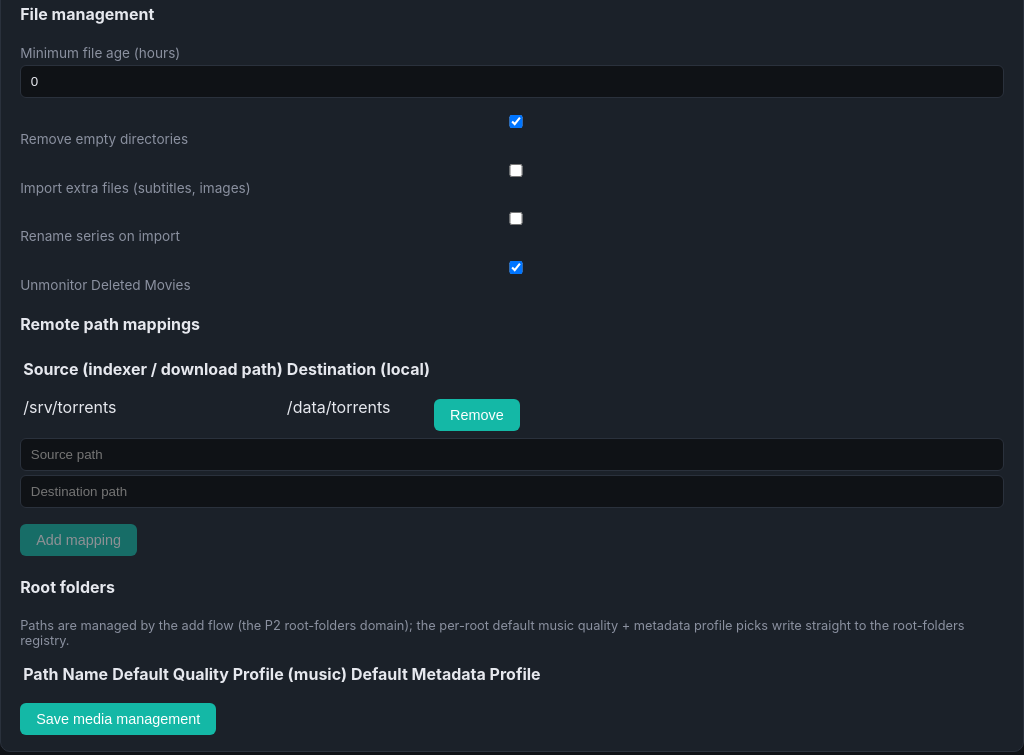
MediaManagementSection › adds a remote path mapping
(page scrolled)
Type "/tmp/in" into the field with test id "mm-map-source" at (512, 454), box [20,438,1004,471]
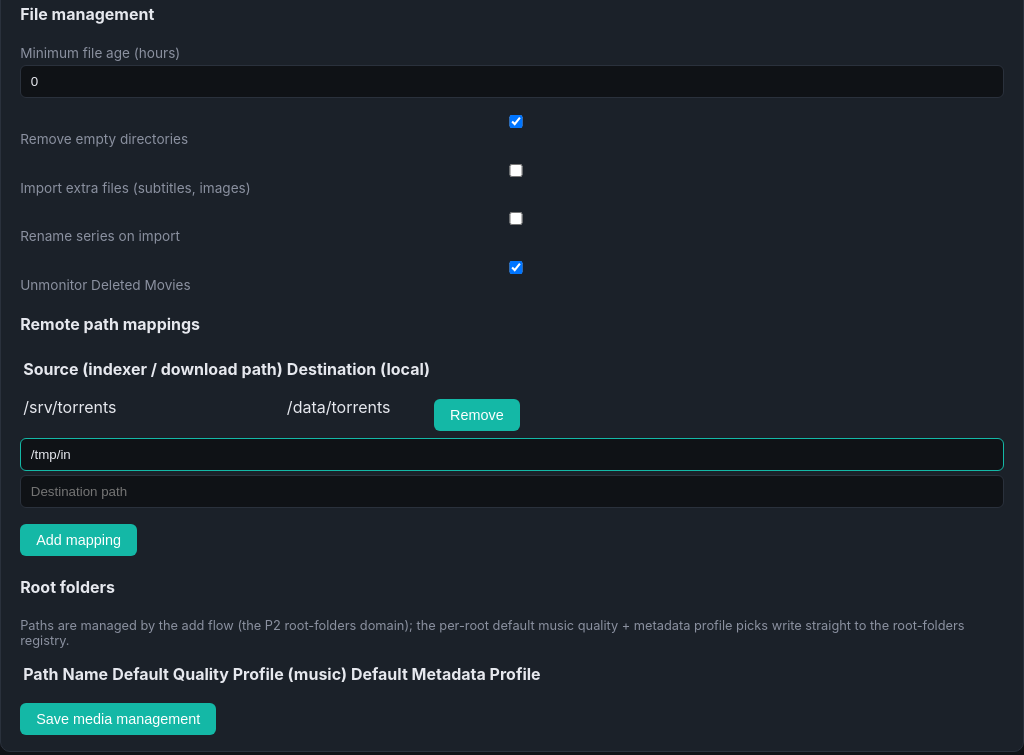
Type "/data/in" into the field with test id "mm-map-dest" at (512, 491), box [20,475,1004,508]
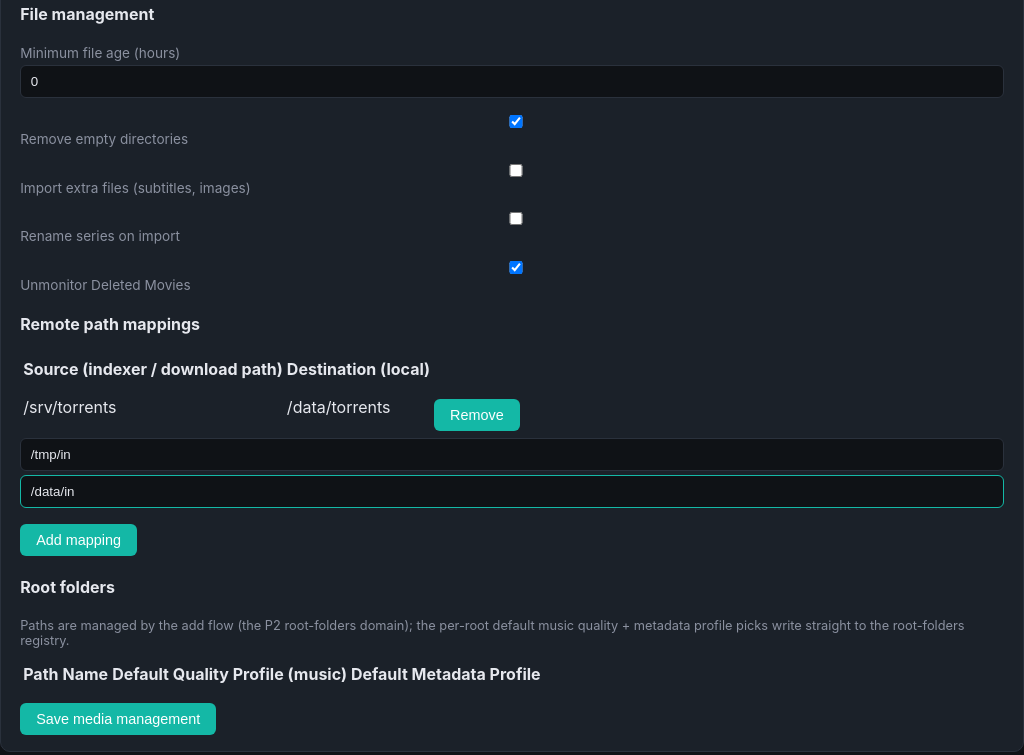
Click the button with test id "mm-map-add" at (79, 540), box [20,524,137,556]
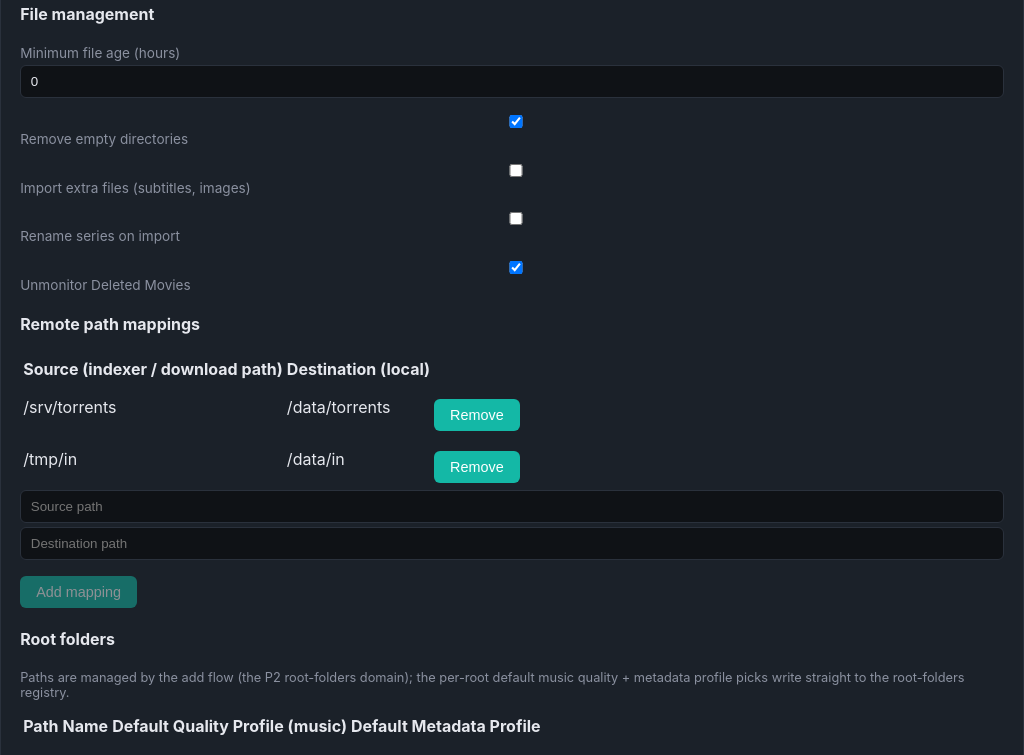
Result: the table with test id "mm-mappings" shows "/tmp/in" at [23,449,77,469]
